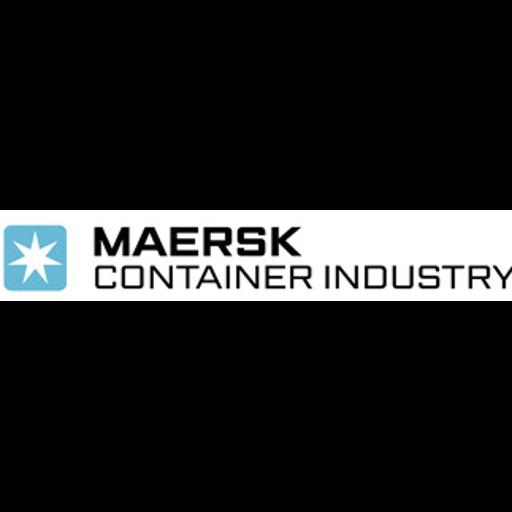Maersk: (0, 210, 512, 301)
